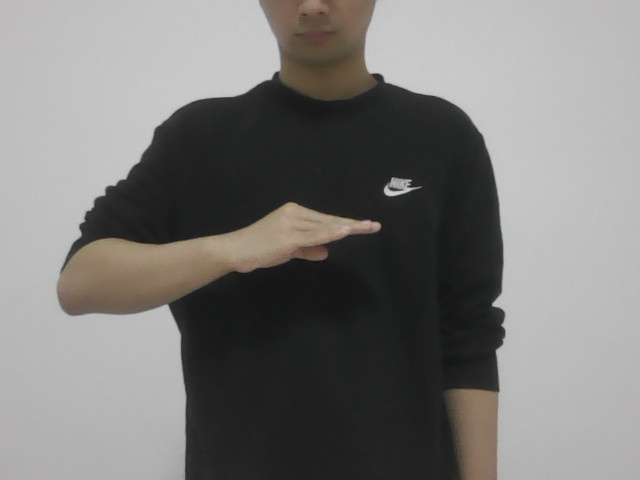late/night: (221, 199, 387, 278)
